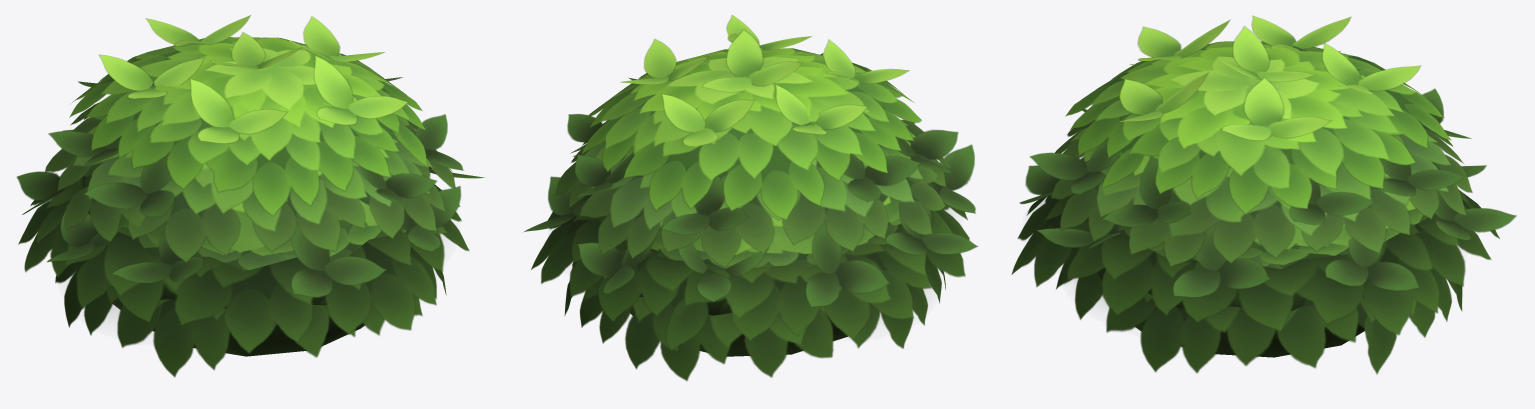
Rendered from stylized_bush.glb.
The picture shows the model from 3 angles, left to right: view 1: azimuth 30°, elevation 25°; view 2: azimuth 150°, elevation 25°; view 3: azimuth 270°, elevation 25°; orthographic projection. The views are drawn at different scales.
Parts seen in each view (by area): view 1: stylized bush; view 2: stylized bush; view 3: stylized bush.
Part boxes in pixels (left/top/right/bottom): stylized bush: left=16, top=15, right=484, bottom=377; stylized bush: left=523, top=15, right=978, bottom=380; stylized bush: left=1011, top=15, right=1516, bottom=374.
Bounding box in the file's own units: 1.51 × 0.9624 × 1.58.
Materials: 1 (1 with a texture image).
